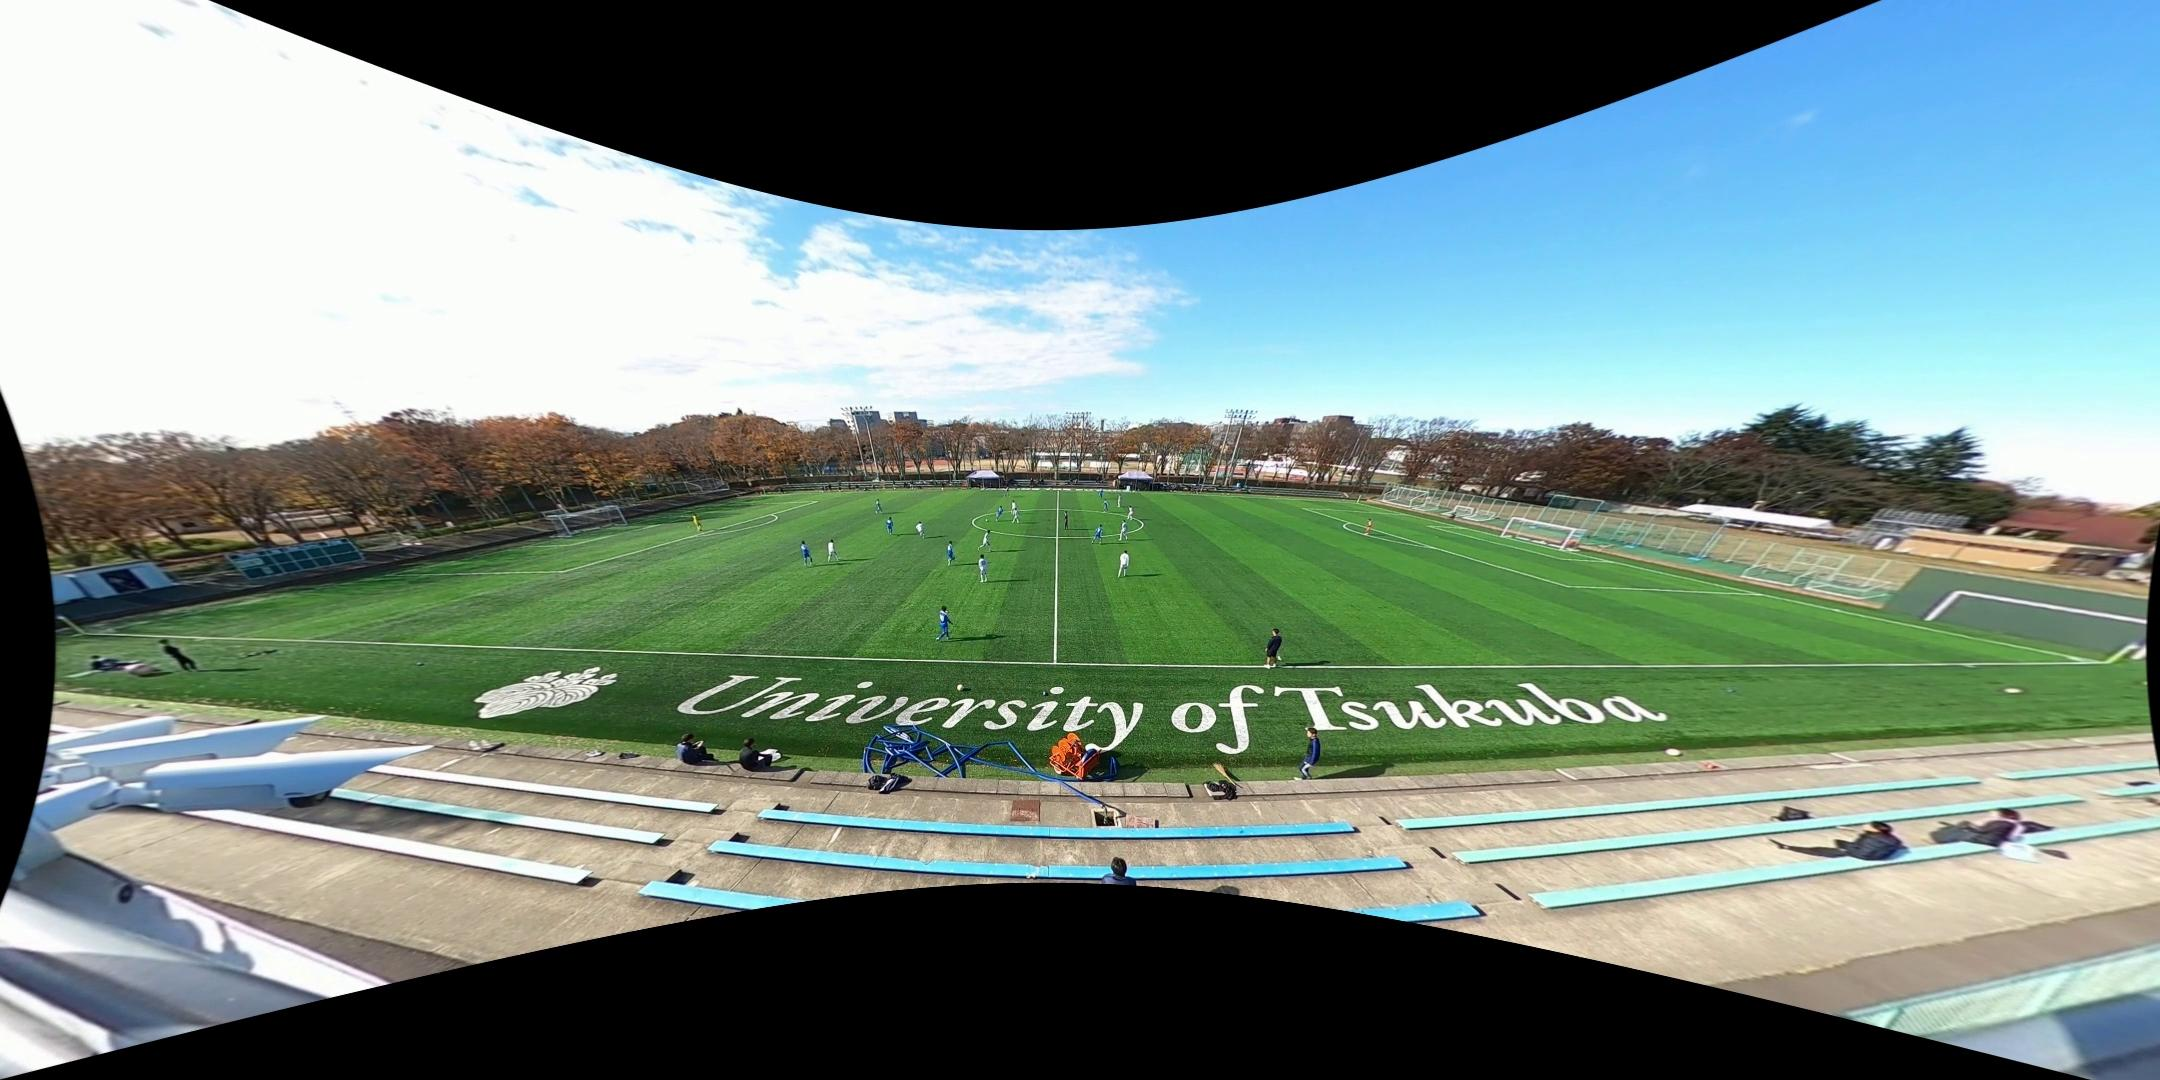person: (1263, 628, 1284, 669), (933, 606, 955, 640), (800, 540, 814, 567), (826, 538, 841, 563), (976, 553, 988, 584), (1117, 550, 1130, 578), (1091, 524, 1105, 545), (978, 531, 991, 552), (690, 512, 702, 534), (1118, 519, 1130, 541), (946, 540, 956, 566), (916, 521, 926, 539), (1363, 518, 1372, 536), (885, 516, 893, 536), (873, 498, 882, 515), (995, 504, 1003, 522), (1010, 500, 1019, 514), (1012, 509, 1020, 524), (1063, 510, 1069, 530), (1003, 486, 1011, 499), (1127, 506, 1134, 520), (1103, 499, 1109, 512), (1117, 494, 1122, 507), (1098, 486, 1103, 498)
sports ball: (956, 683, 964, 691), (984, 519, 990, 522)
